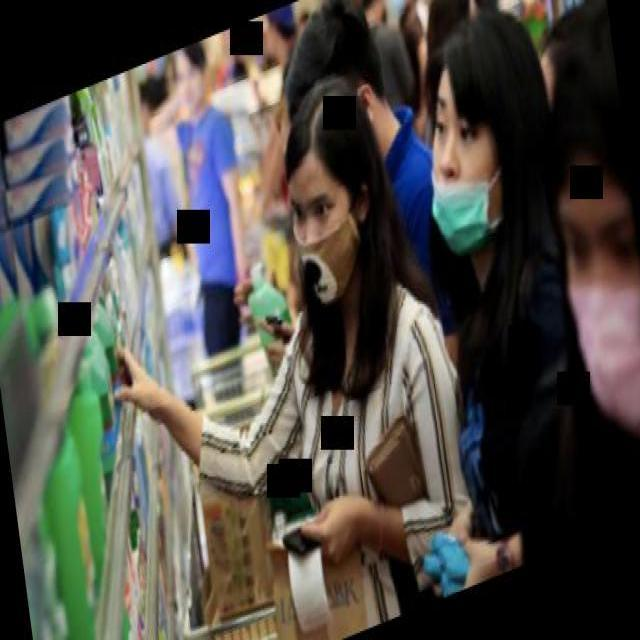hairnet: (428, 135, 498, 250)
